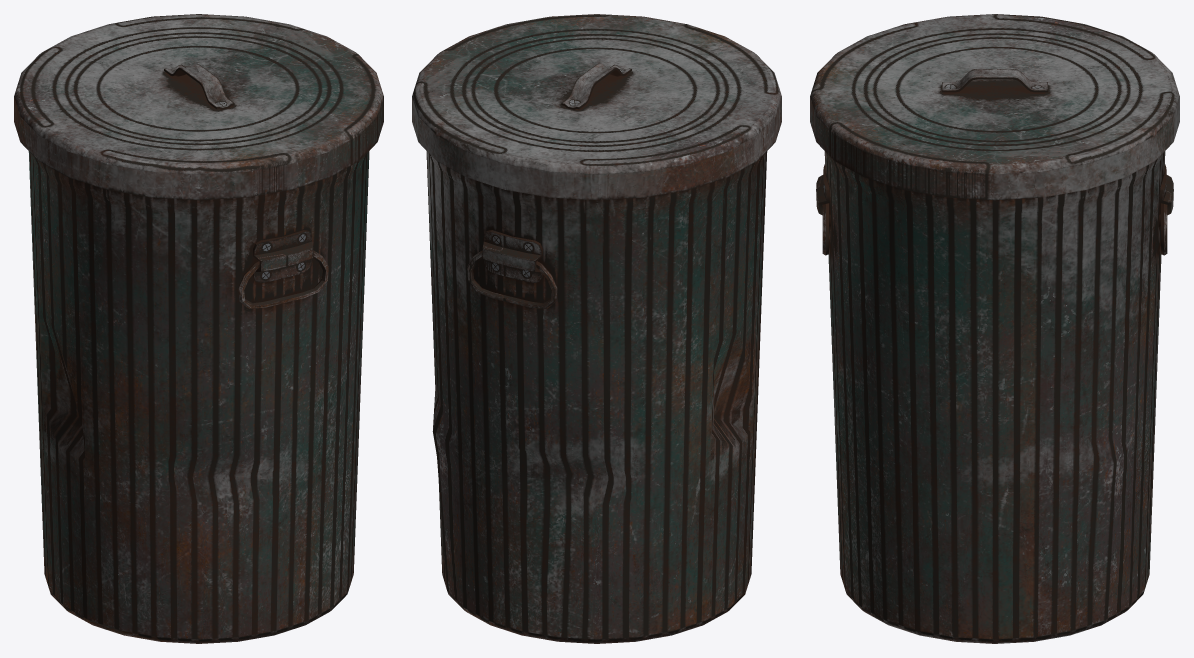
File: trash_metal_-_6mb.glb
3 renders of one model, left to right at view 1: azimuth 30°, elevation 25°; view 2: azimuth 150°, elevation 25°; view 3: azimuth 270°, elevation 25°, orthographic.
Parts seen in each view (by area): view 1: Object_0_Mat_0, Object_0_1_Mat_0; view 2: Object_0_Mat_0, Object_0_1_Mat_0; view 3: Object_0_Mat_0, Object_0_1_Mat_0.
Boxes of the visible parts, bbox=[...] form: Object_0_Mat_0: bbox=[28, 151, 369, 643]; Object_0_1_Mat_0: bbox=[14, 14, 383, 200]; Object_0_Mat_0: bbox=[426, 151, 767, 643]; Object_0_1_Mat_0: bbox=[412, 14, 781, 200]; Object_0_Mat_0: bbox=[816, 151, 1173, 643]; Object_0_1_Mat_0: bbox=[810, 14, 1179, 200].
Size of the model in its own units: 44.42 by 67.33 by 44.42.
Materials: 1 (1 with a texture image).
